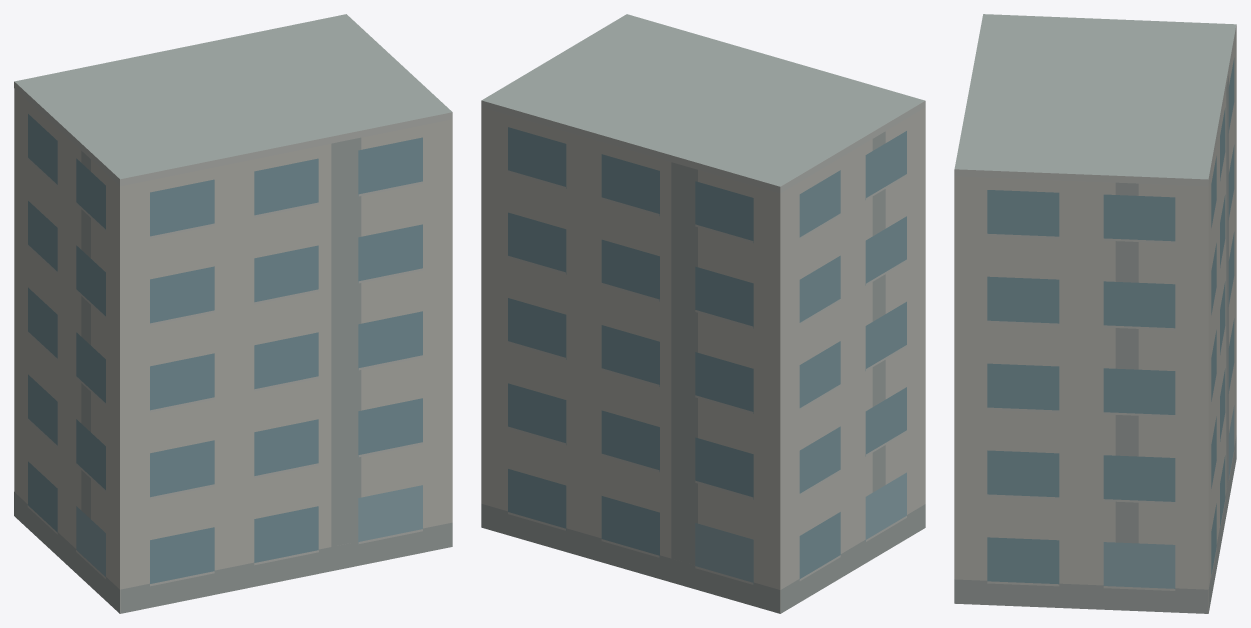
Rendered from residential-c75945e8-ca1f-459b-99f1-fa47ff8aea56.glb.
3 views of the same model, side by side, from view 1: azimuth 30°, elevation 25°; view 2: azimuth 150°, elevation 25°; view 3: azimuth 270°, elevation 25° (orthographic).
Visible parts, largest first — view 1: residential-c75945e8-ca1f-459b-99f1-fa47ff8aea56.tmp; view 2: residential-c75945e8-ca1f-459b-99f1-fa47ff8aea56.tmp; view 3: residential-c75945e8-ca1f-459b-99f1-fa47ff8aea56.tmp.
Part boxes in pixels (x1,y1,x2,y2): residential-c75945e8-ca1f-459b-99f1-fa47ff8aea56.tmp: (14,14,452,613); residential-c75945e8-ca1f-459b-99f1-fa47ff8aea56.tmp: (481,14,925,613); residential-c75945e8-ca1f-459b-99f1-fa47ff8aea56.tmp: (954,14,1236,613).
Bounding box in the file's own units: 12.47 × 15.25 × 8.98.
